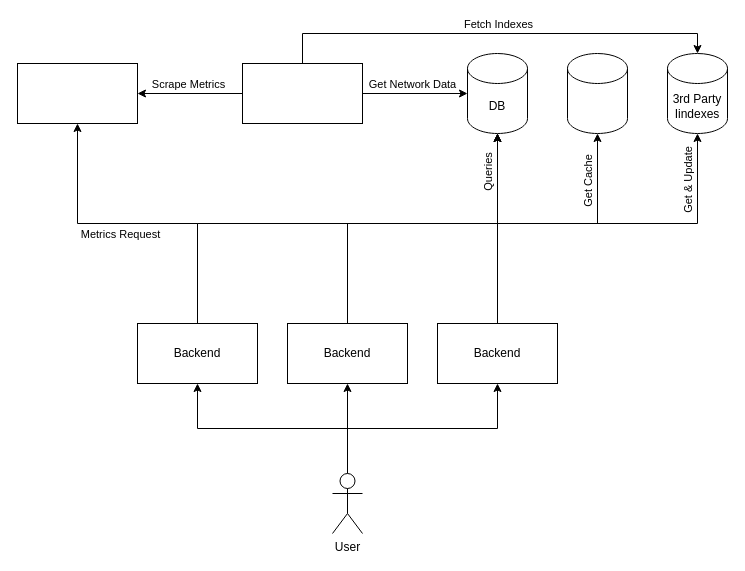
Some shapes in this 745 by 571 pixel diagram are drawn without their labels. Here are the shapes that lost their labels. From the top down, the centre of each, then its label:
At [77,93]: "Cortex".
At [302,93]: "Prometheus Exporter".
At [597,93]: "Redis".
